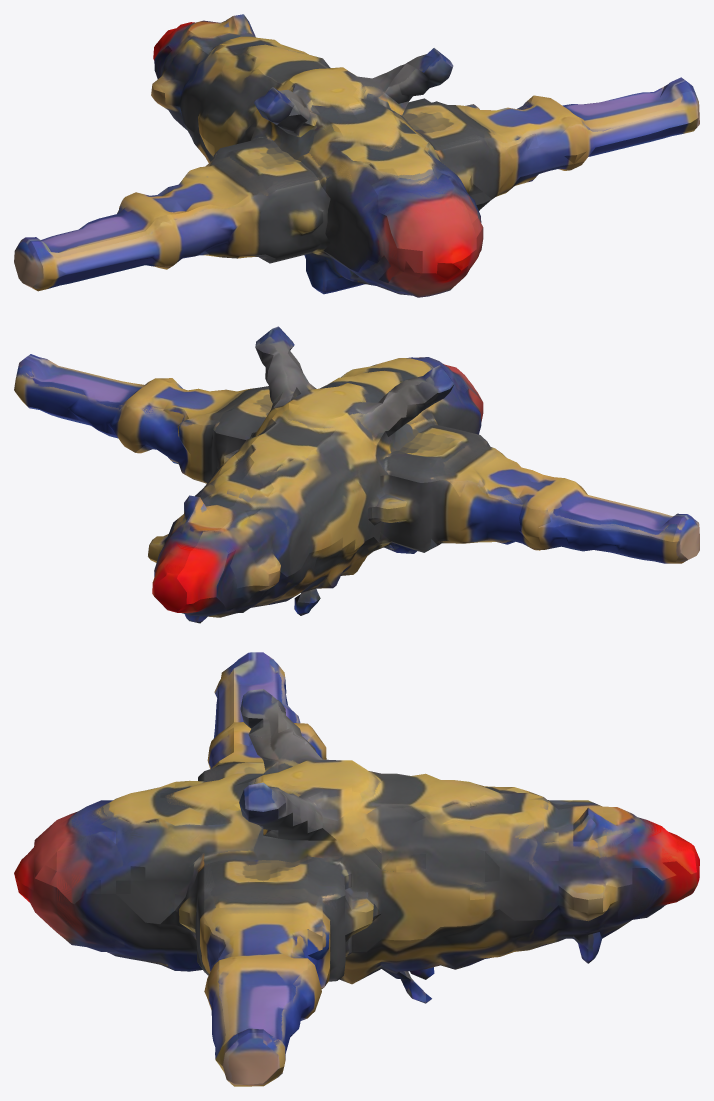
The model's file is AIKamikaze.glb.
The picture shows the model from 3 angles, top to bottom: view 1: azimuth 30°, elevation 25°; view 2: azimuth 150°, elevation 25°; view 3: azimuth 270°, elevation 25°; orthographic projection. The views are drawn at different scales.
Parts seen in each view (by area): view 1: tmprrmelk63.ply; view 2: tmprrmelk63.ply; view 3: tmprrmelk63.ply.
Part boxes in pixels (x1,y1,x2,y2): tmprrmelk63.ply: (14,14,699,297); tmprrmelk63.ply: (14,326,699,623); tmprrmelk63.ply: (14,652,699,1086).
Bounding box in the file's own units: 1.95 × 0.5893 × 1.44.
1 material, 1 textured.
